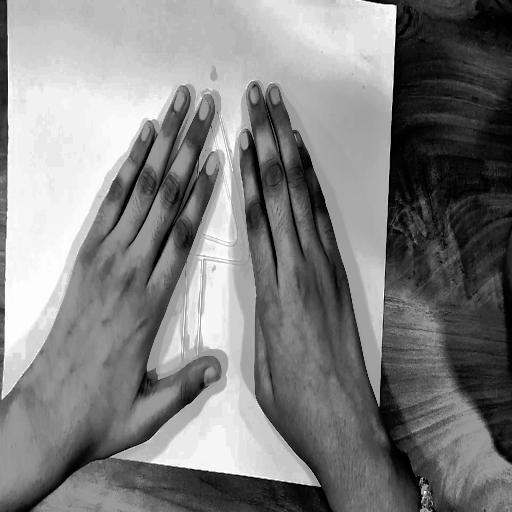bottom_right: (371, 478, 382, 491)
signboard: (139, 81, 268, 395)
top_right: (392, 2, 401, 14)
